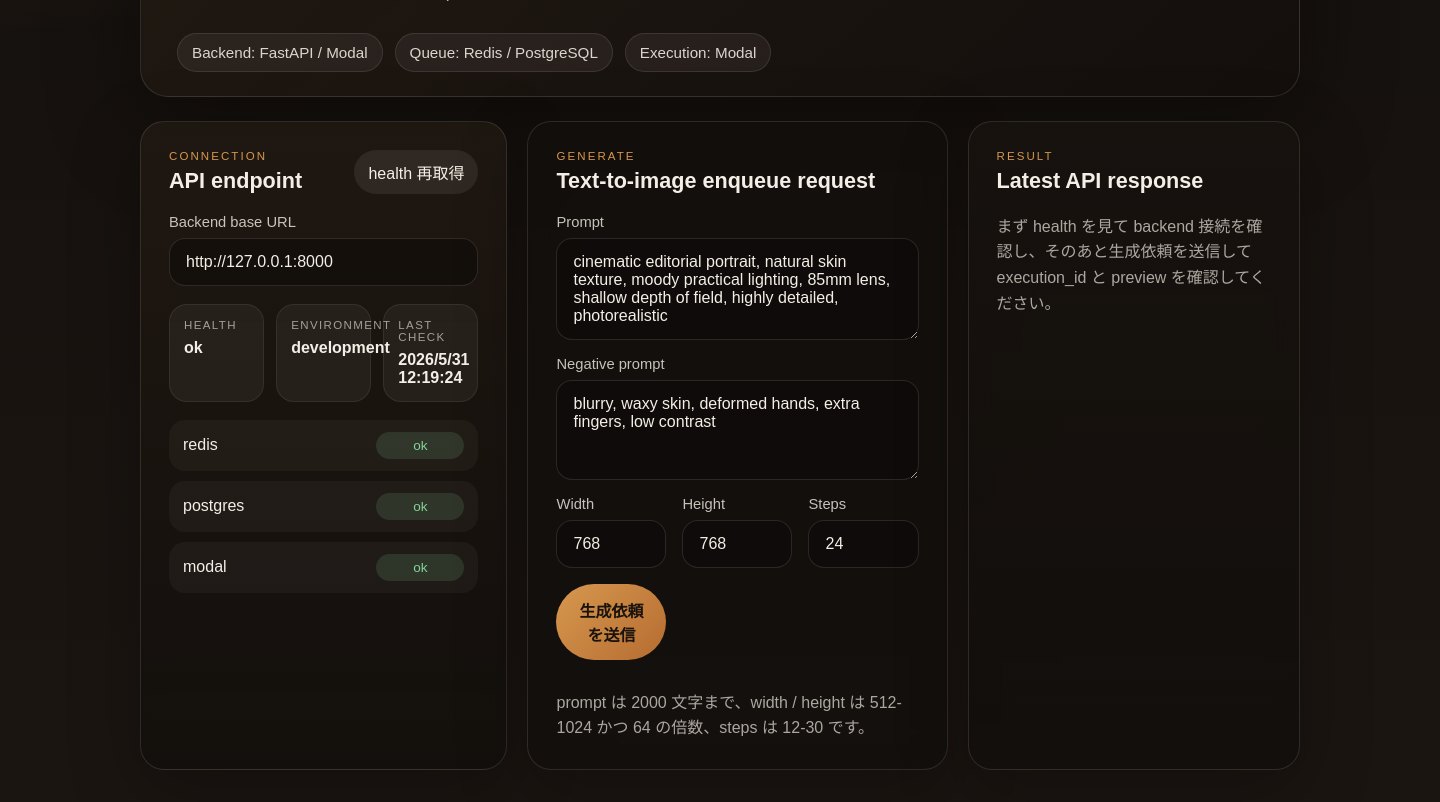
Scenario: App › keeps tracking queue publish failures that already spawned a job
(page scrolled)
Expected: the text "development" is shown, x1=291 y1=339 x2=390 y2=356
Click the button "生成依頼を送信" at (612, 622), box x1=556 y1=584 x2=666 y2=660
(page scrolled)
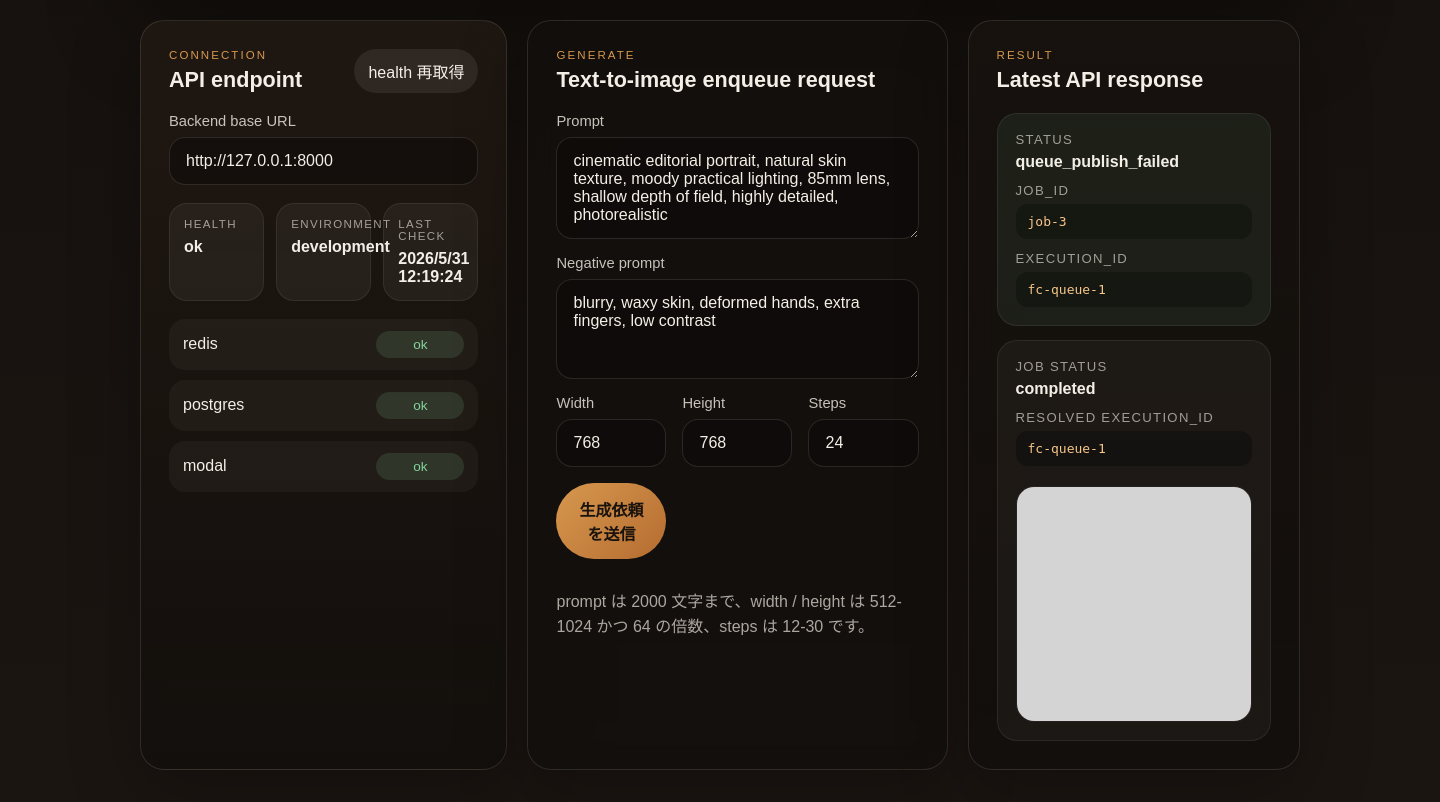
Expected: the text "completed" is shown, x1=1016 y1=380 x2=1096 y2=397
Expected: the text "fc-queue-1" is shown 2 times, x1=1016 y1=272 x2=1252 y2=307; x1=1016 y1=431 x2=1252 y2=466
